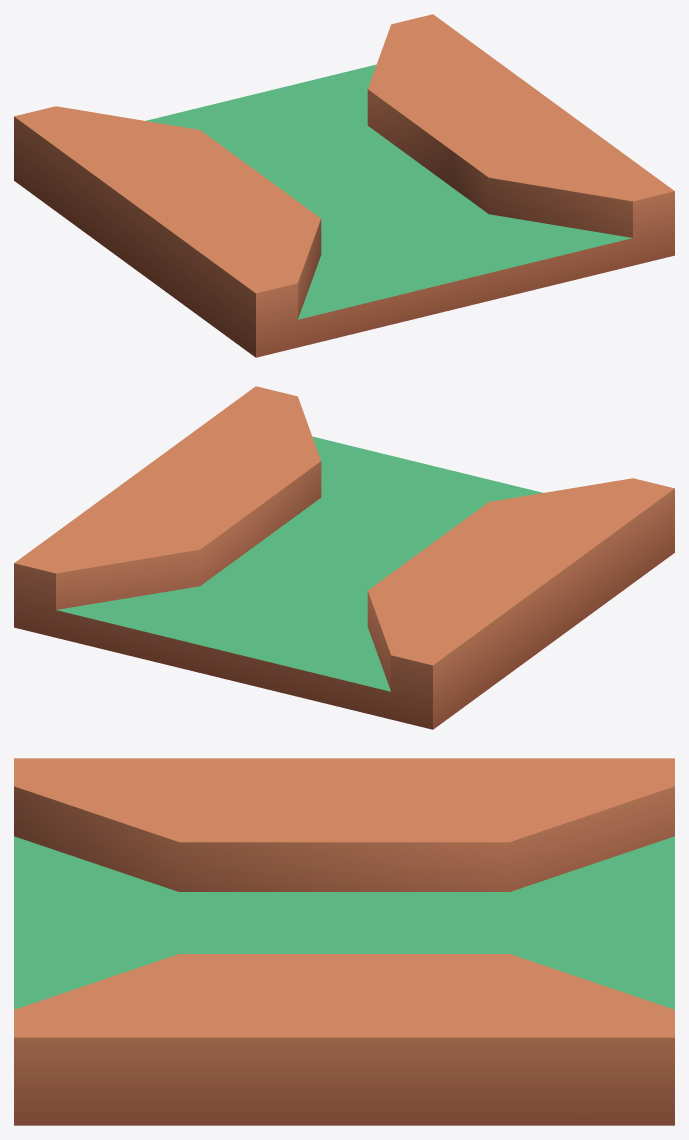
The model's file is narrow-square.glb.
3 views of the same model, one above another, from view 1: azimuth 30°, elevation 25°; view 2: azimuth 150°, elevation 25°; view 3: azimuth 270°, elevation 25° (orthographic). The views are drawn at different scales.
Parts seen in each view (by area): view 1: narrow-square; view 2: narrow-square; view 3: narrow-square.
Boxes of the visible parts, x1,y1,x2,y2 form: narrow-square: (14, 14, 674, 357); narrow-square: (14, 386, 674, 729); narrow-square: (14, 758, 674, 1125).
Size of the model in its own units: 0.9999 by 0.1466 by 0.9999.
Materials: 1 (1 with a texture image).
